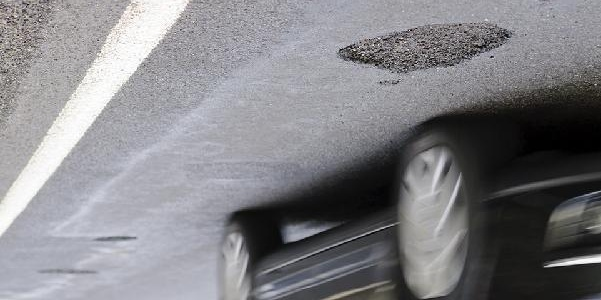pothole: (334, 18, 516, 73)
